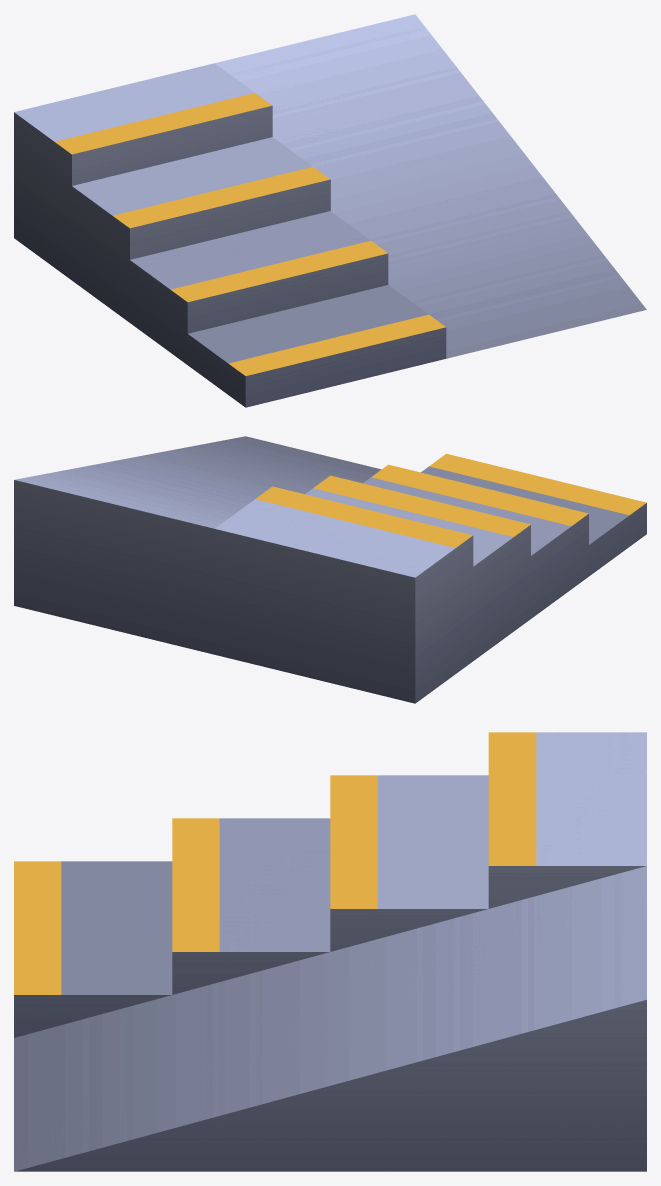
Rendered from stairs-ramp.glb.
The picture shows the model from 3 angles, top to bottom: view 1: azimuth 30°, elevation 25°; view 2: azimuth 150°, elevation 25°; view 3: azimuth 270°, elevation 25°; orthographic projection. The views are drawn at different scales.
Visible parts, largest first — view 1: stairs-ramp; view 2: stairs-ramp; view 3: stairs-ramp.
Boxes of the visible parts, x1,y1,x2,y2 form: stairs-ramp: (14, 14, 646, 407); stairs-ramp: (14, 436, 646, 703); stairs-ramp: (14, 732, 646, 1171).
Size of the model in its own units: 1 by 0.3 by 1.
Materials: 1 (1 with a texture image).
